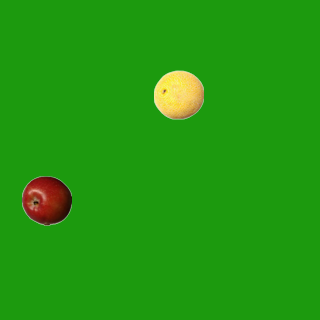Apple Braeburn: (21, 175, 71, 225)
Cantaloupe 1: (153, 69, 203, 119)
